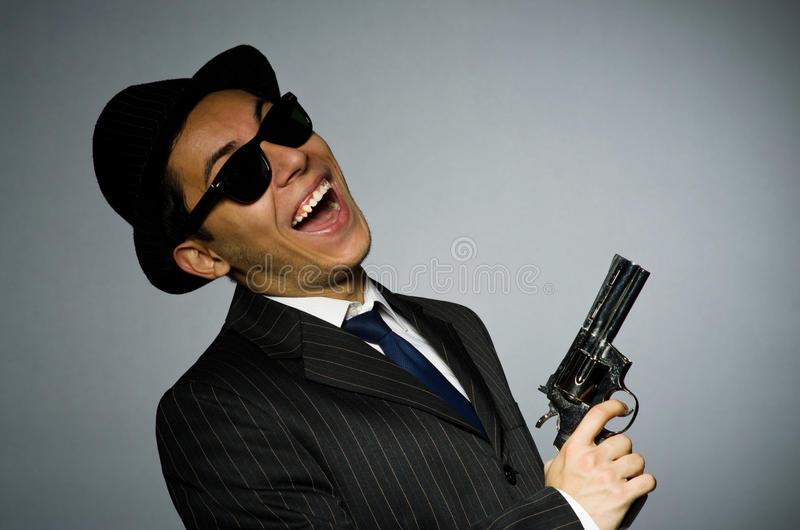criminal: (89, 41, 657, 530)
weapon: (534, 249, 654, 530)
